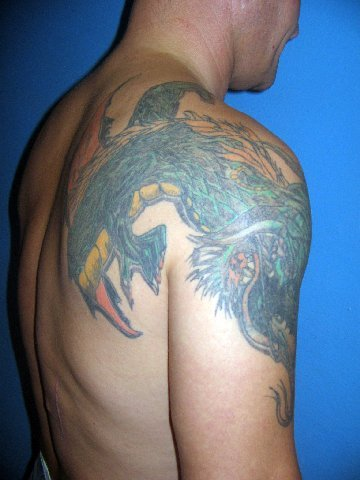tatu6_drakon: (50, 57, 326, 433)
